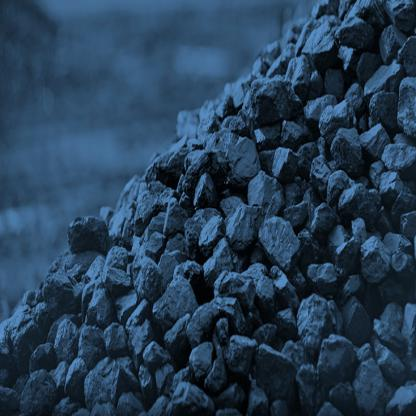Sedimentary_coal: (144, 266, 211, 334), (249, 69, 300, 133), (314, 319, 360, 388), (80, 351, 137, 404), (329, 126, 372, 187), (254, 211, 298, 268), (67, 202, 114, 253), (163, 369, 215, 415), (187, 158, 219, 212), (302, 18, 336, 62), (268, 141, 299, 187), (86, 286, 116, 324), (52, 310, 77, 355)
